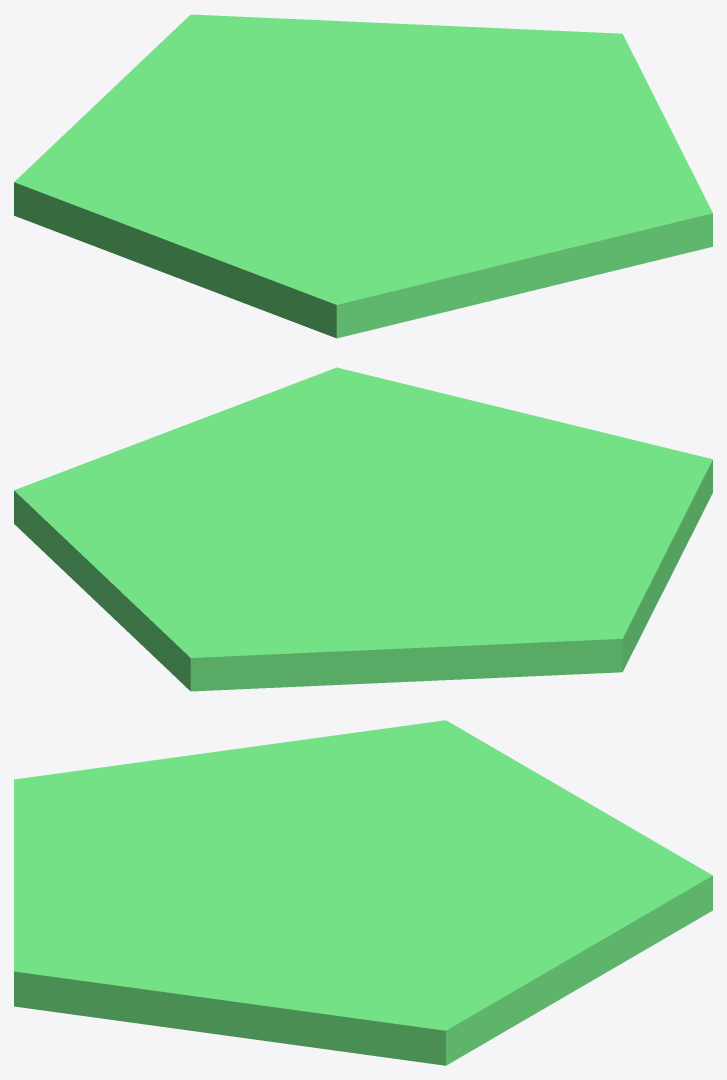
The model's file is foundation.glb.
3 views of the same model, one above another, from view 1: azimuth 30°, elevation 25°; view 2: azimuth 150°, elevation 25°; view 3: azimuth 270°, elevation 25° (orthographic). The views are drawn at different scales.
Visible parts, largest first — view 1: Cylinder; view 2: Cylinder; view 3: Cylinder.
Boxes of the visible parts, box(x1,y1,x2,y2) form: Cylinder: box(14, 14, 712, 338); Cylinder: box(14, 367, 712, 691); Cylinder: box(14, 720, 712, 1065).
Bounding box in the file's own units: 5.71 × 0.3 × 5.43.
